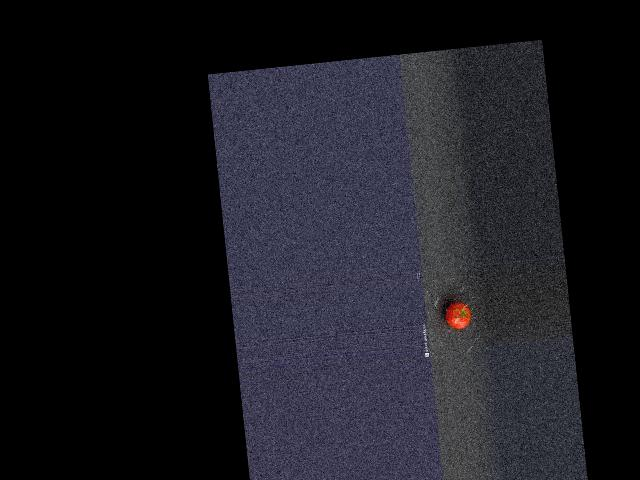tomato: (444, 300, 472, 330)
